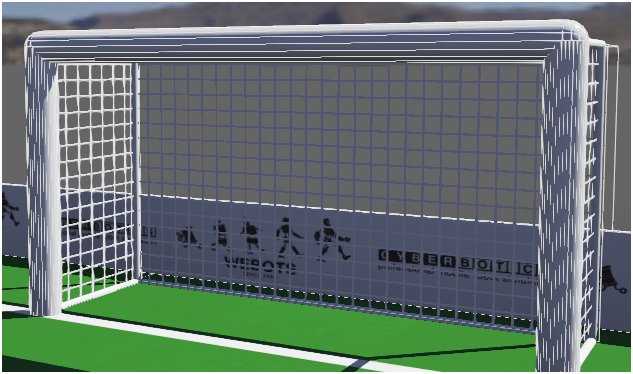Goal: (4, 16, 601, 349)
